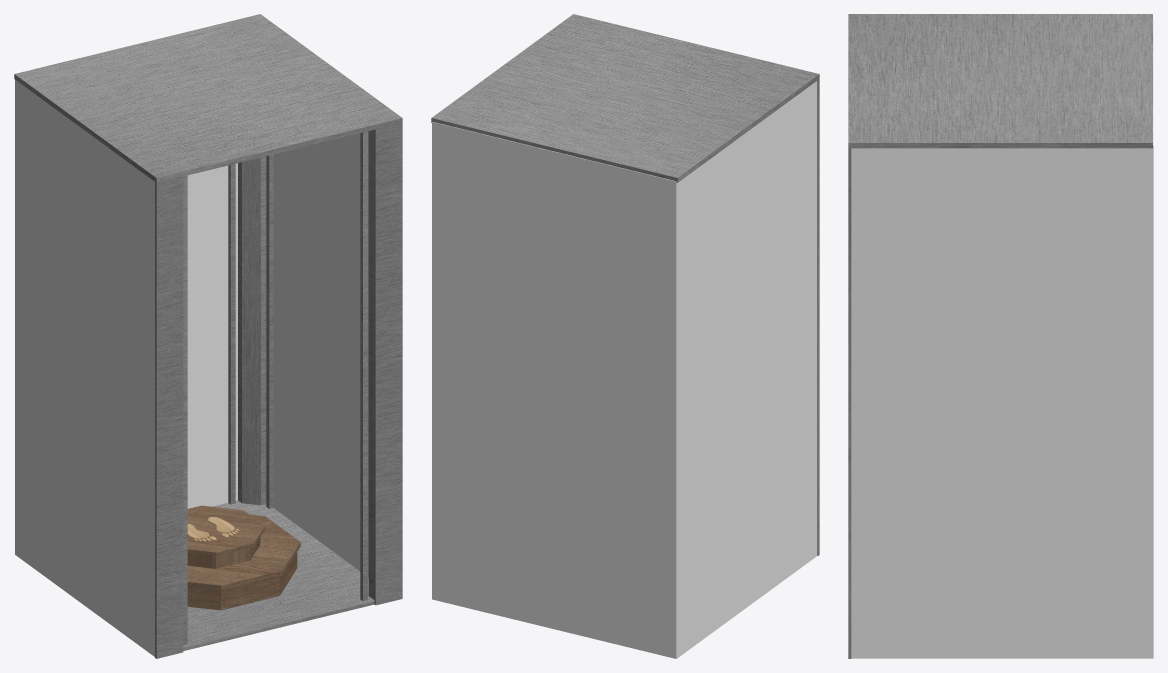
The model's file is bodyScanGLB.glb.
3 views of the same model, side by side, from view 1: azimuth 30°, elevation 25°; view 2: azimuth 150°, elevation 25°; view 3: azimuth 270°, elevation 25° (orthographic). The views are drawn at different scales.
Visible parts, largest first — view 1: 物件_31, 物件_1, 物件_33, 物件_32, 物件_35, 物件_34, 物件_20, 物件_30, 物件_22, 物件_4, 物件_23, 物件_18 (+5 smaller); view 2: 物件_32, 物件_31, 物件_1, 物件_35; view 3: 物件_33, 物件_1, 物件_34, 物件_32.
Boxes of the visible parts, box(x1,y1,x2,y2) form: 物件_31: box(15, 79, 154, 656); 物件_1: box(14, 14, 402, 182); 物件_33: box(273, 131, 368, 577); 物件_32: box(187, 163, 237, 508); 物件_35: box(155, 175, 183, 658); 物件_34: box(374, 122, 402, 605); 物件_20: box(238, 156, 266, 505); 物件_30: box(183, 500, 374, 650); 物件_22: box(360, 131, 367, 601); 物件_4: box(187, 514, 300, 590); 物件_23: box(368, 130, 374, 599); 物件_18: box(266, 154, 273, 508); 物件_32: box(432, 122, 676, 658); 物件_31: box(676, 81, 817, 658); 物件_1: box(431, 14, 819, 182); 物件_35: box(817, 78, 819, 555); 物件_33: box(851, 148, 1152, 658); 物件_1: box(848, 14, 1152, 148); 物件_34: box(848, 147, 851, 658); 物件_32: box(1153, 18, 1153, 658).
Size of the model in its own units: 0.0505 by 0.0944 by 0.0506.
5 materials, 4 textured.
